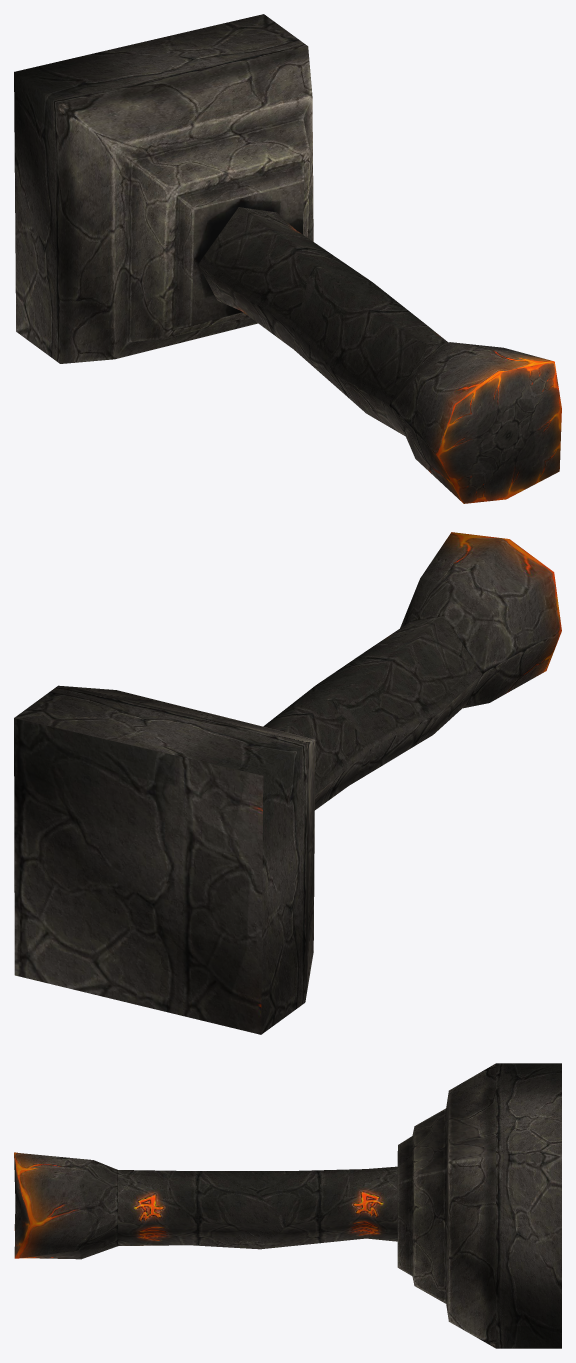
File: Altar-misc-01.obj
The picture shows the model from 3 angles, top to bottom: view 1: azimuth 30°, elevation 25°; view 2: azimuth 150°, elevation 25°; view 3: azimuth 270°, elevation 25°; orthographic projection. The views are drawn at different scales.
Parts seen in each view (by area): view 1: (null); view 2: (null); view 3: (null).
Part boxes in pixels (x1,y1,x2,y2): (null): (14, 14, 561, 503); (null): (14, 532, 561, 1034); (null): (14, 1063, 561, 1348).
Size of the model in its own units: 2.94 by 2.93 by 7.49.
